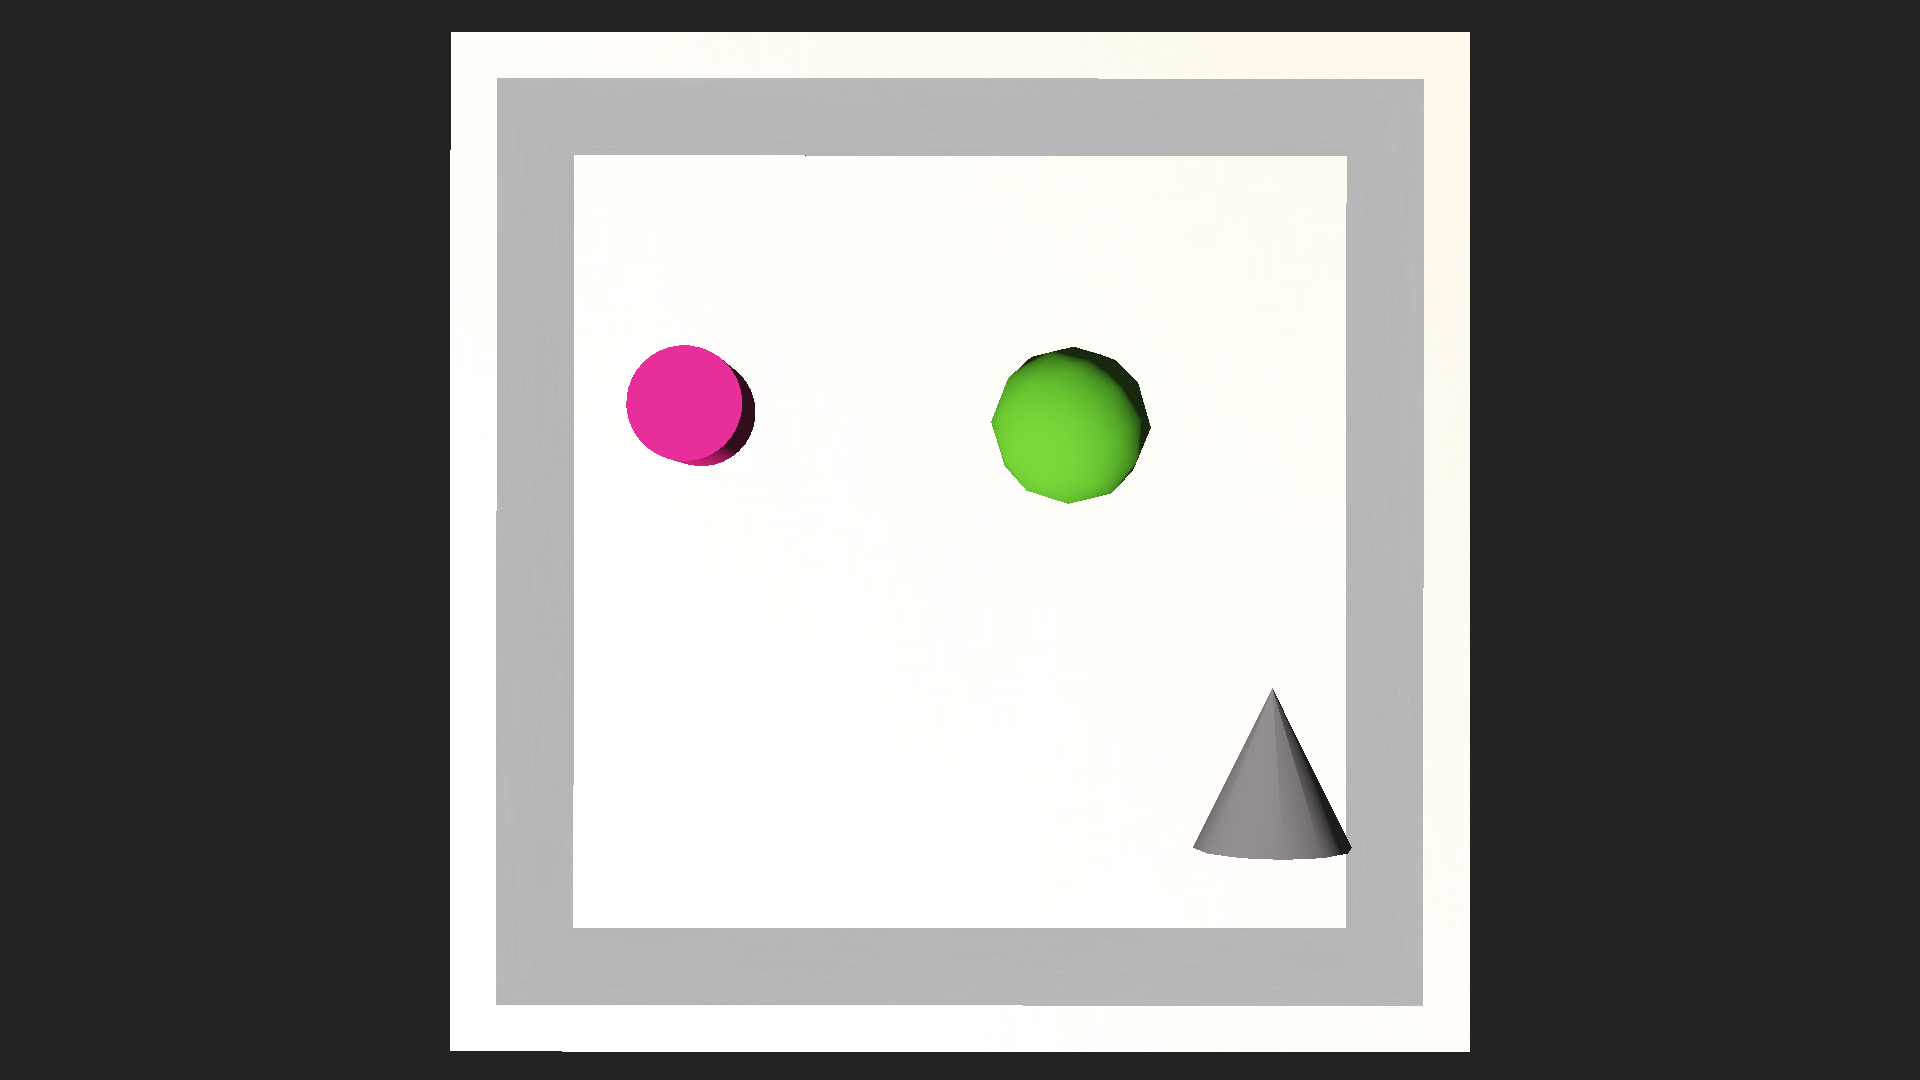cone: (624, 344, 756, 465)
cylinder: (1192, 682, 1356, 858)
sphere: (990, 344, 1150, 504)
